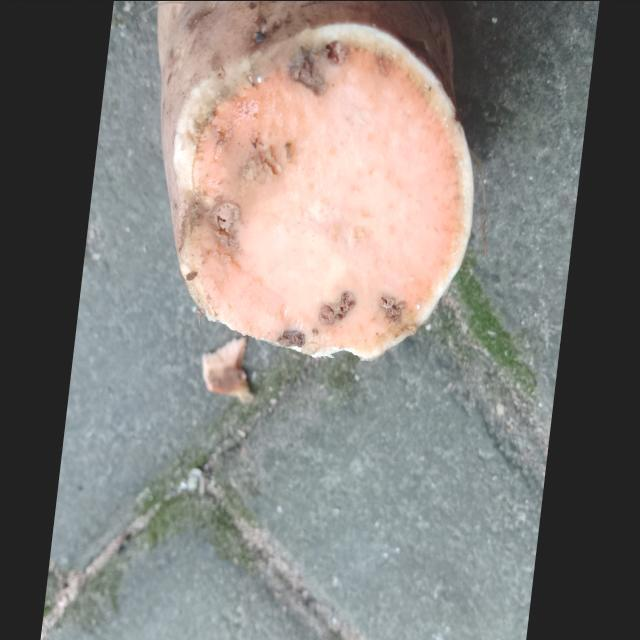Sick Sweet Potato_Tuber Rot: (190, 42, 460, 358)
